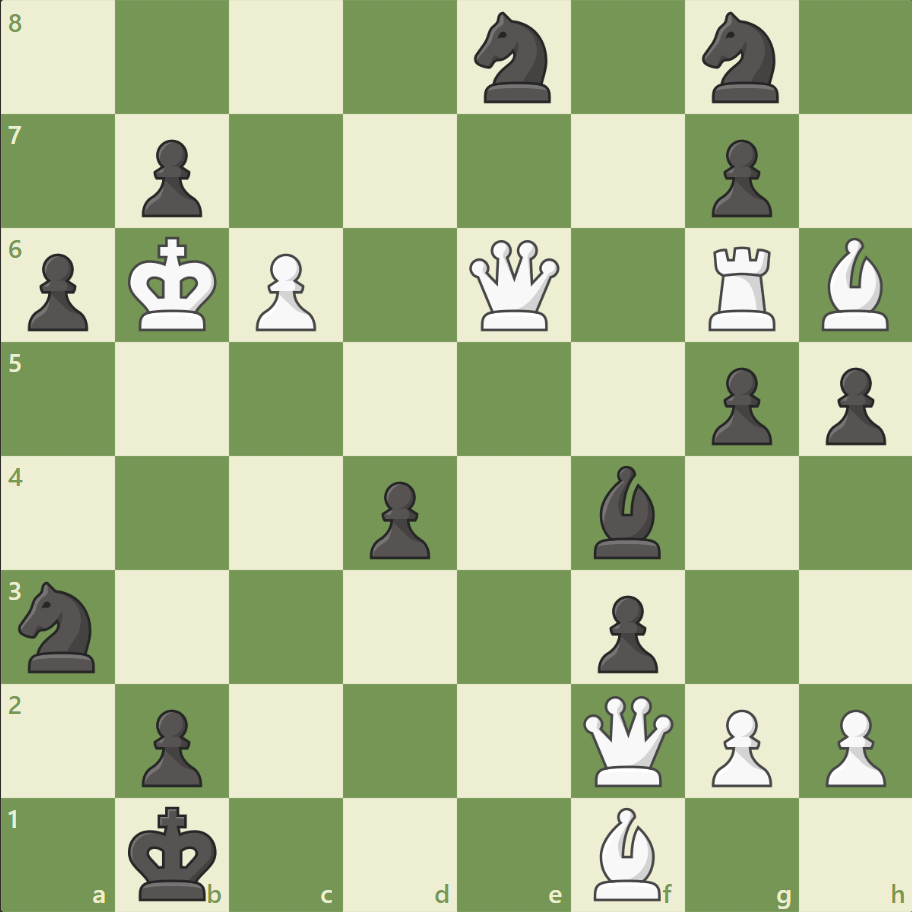B: (812, 233, 896, 336), (585, 801, 669, 904)
K: (124, 231, 224, 339)
P: (247, 246, 322, 337), (701, 700, 776, 791), (815, 700, 889, 791)
Q: (464, 236, 563, 335), (578, 690, 677, 789)
R: (700, 239, 783, 336)
b: (585, 460, 669, 563)
k: (124, 798, 224, 906)
n: (465, 7, 562, 110), (692, 7, 789, 110), (11, 575, 108, 677)
p: (133, 132, 208, 223), (701, 132, 776, 223), (20, 246, 95, 337), (701, 359, 776, 450), (133, 700, 208, 791), (815, 359, 889, 450), (361, 473, 435, 564), (588, 586, 662, 677)
